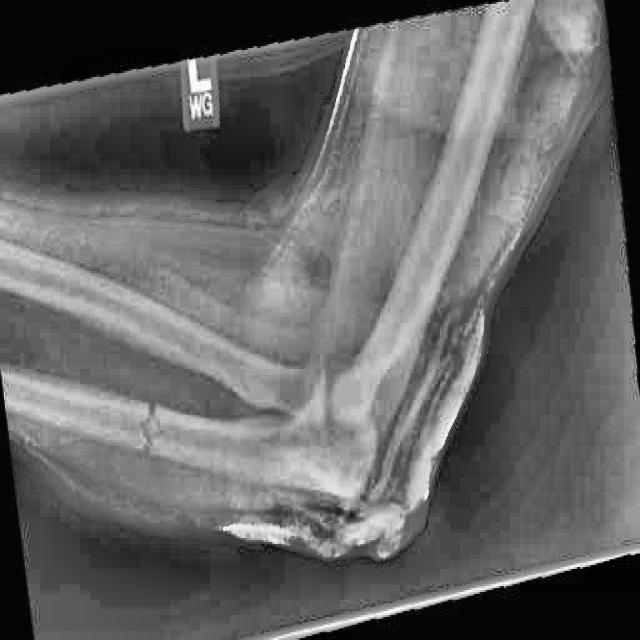elbow positive: (131, 367, 197, 478)
